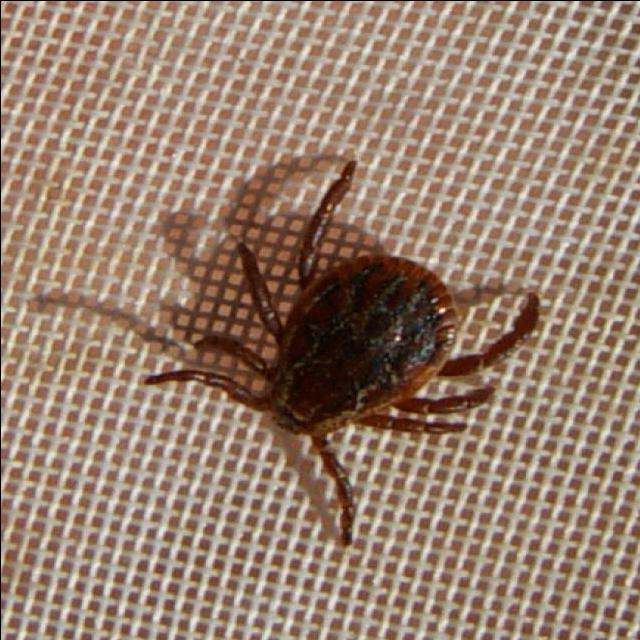Dermacentor Reticulatus-M: (140, 161, 537, 545)
